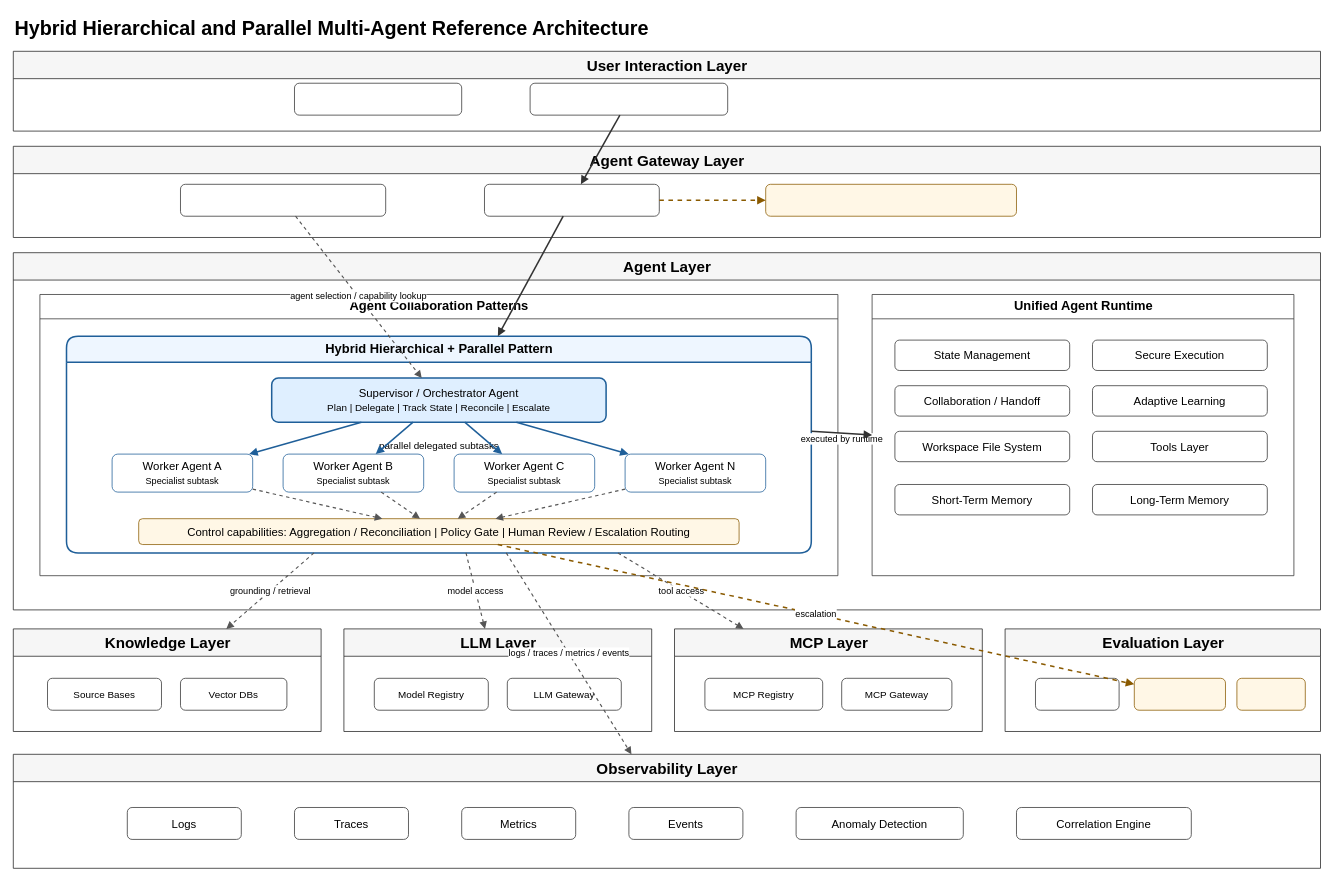
Some shapes in this 1334 by 882 pixel diagram are drawn without their labels. The centre of each missing label's shape, as x and y in pixels:
"Agent Registry" goes at point 283,200.
"Application" goes at point 628,98.
"Feedback" goes at point 1077,694.
"Gateway" goes at point 571,200.
"Guardrails and Policies" goes at point 890,200.
"Human Supervision" goes at point 1180,694.
"Runtime Protection" goes at point 1270,694.
"User" goes at point 378,98.
